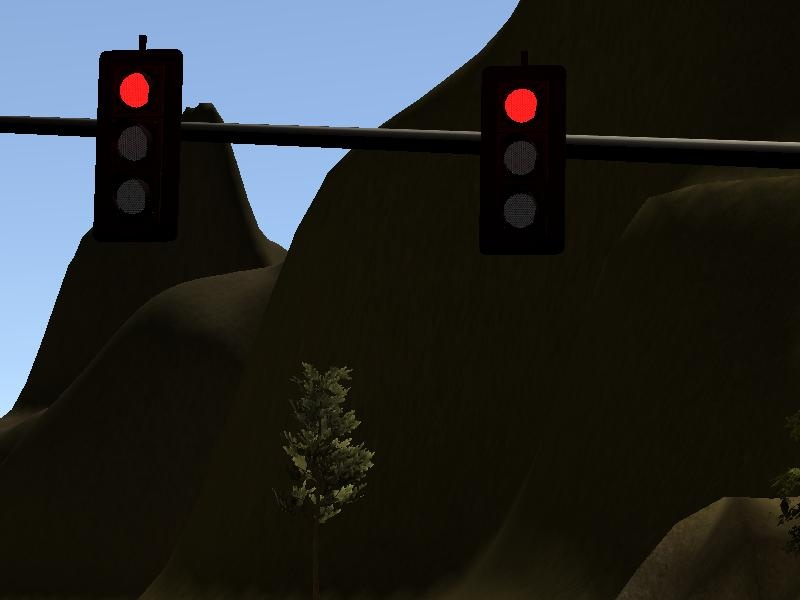red: (96, 50, 183, 243), (481, 66, 567, 256)
